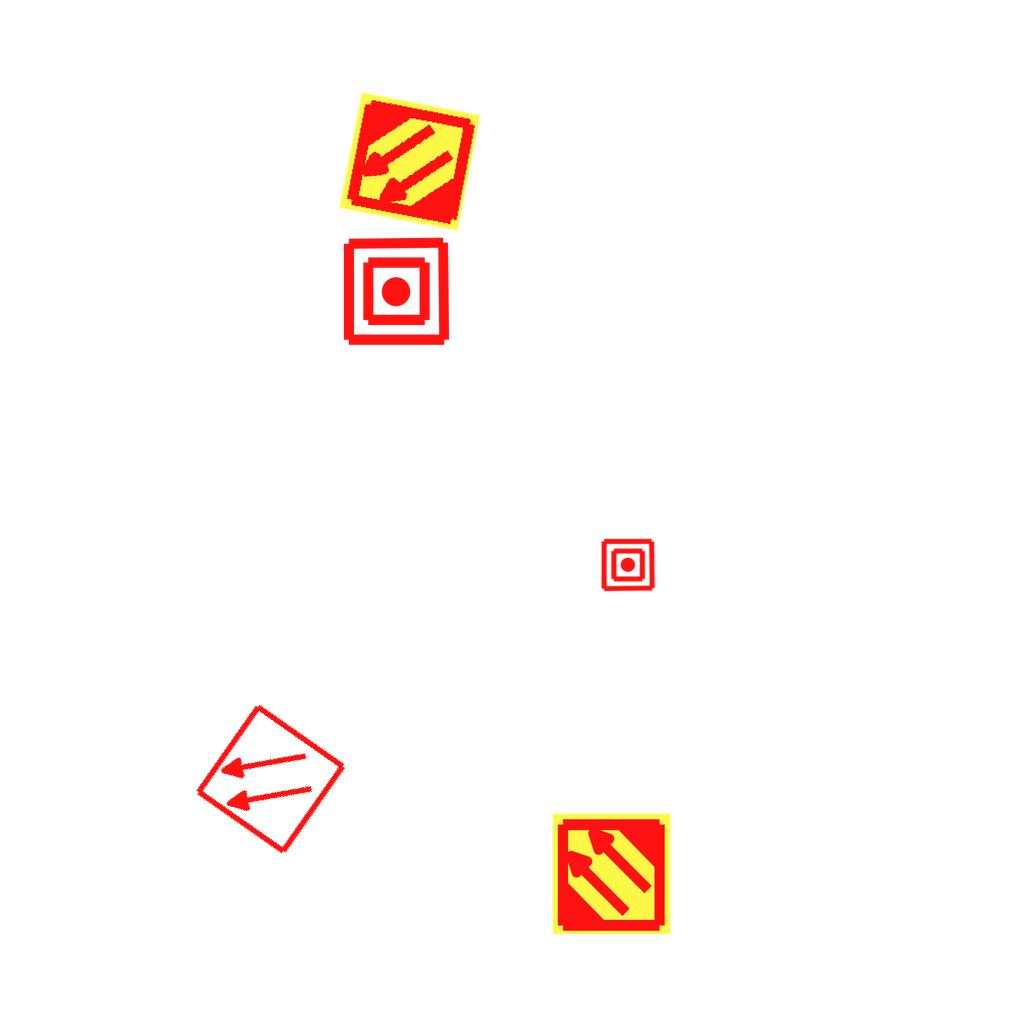ASR_Ansaugrauchmelder: (336, 88, 483, 235), (549, 811, 674, 936)
NAM-Nichtautomatischer_Melder: (340, 235, 453, 348), (600, 537, 656, 593)
RMO_Rauchmelder_optischer: (191, 700, 350, 859)
